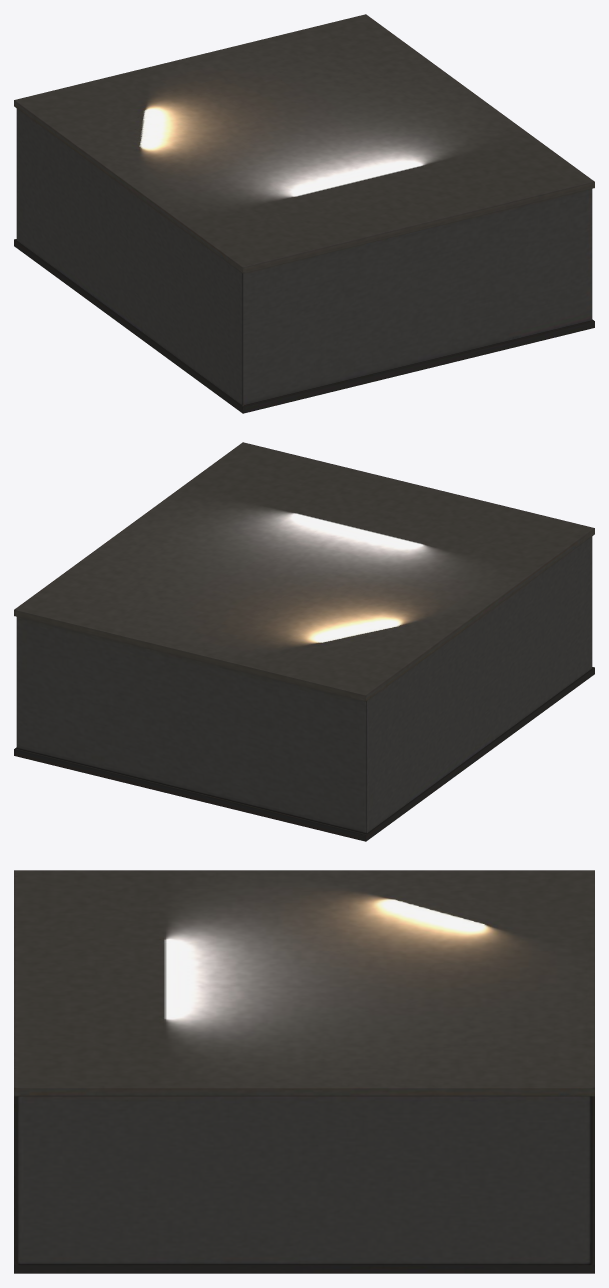
Rendered from room-estratos.glb.
The picture shows the model from 3 angles, top to bottom: view 1: azimuth 30°, elevation 25°; view 2: azimuth 150°, elevation 25°; view 3: azimuth 270°, elevation 25°; orthographic projection. The views are drawn at different scales.
Visible parts, largest first — view 1: estratos; view 2: estratos; view 3: estratos.
Boxes of the visible parts, x1,y1,x2,y2 form: estratos: (14, 14, 594, 413); estratos: (14, 442, 594, 841); estratos: (14, 870, 594, 1273).
Size of the model in its own units: 16.6 by 6.58 by 18.7.
1 material, 1 textured.
